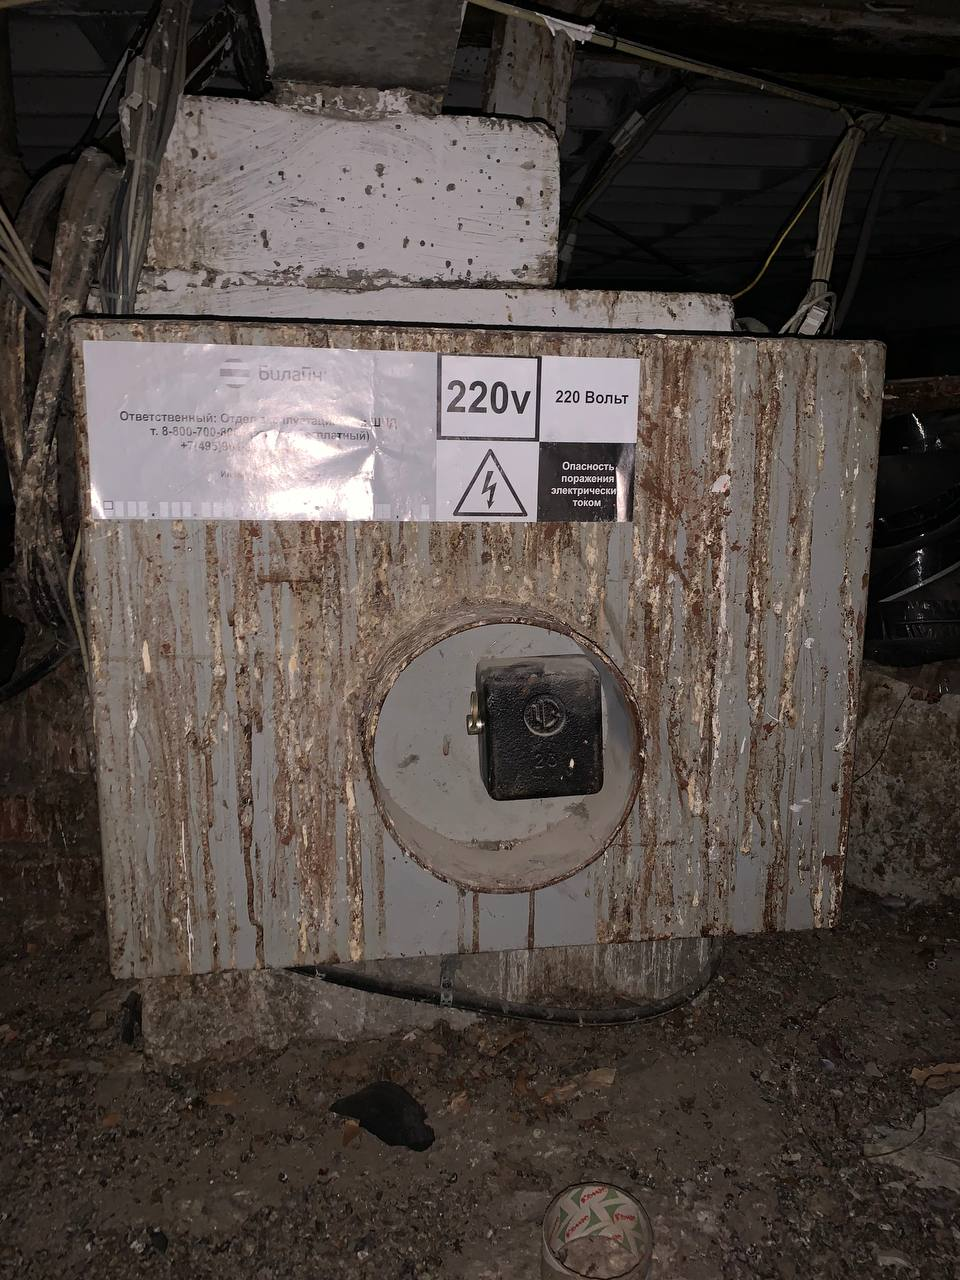shta-3: (63, 313, 894, 991)
